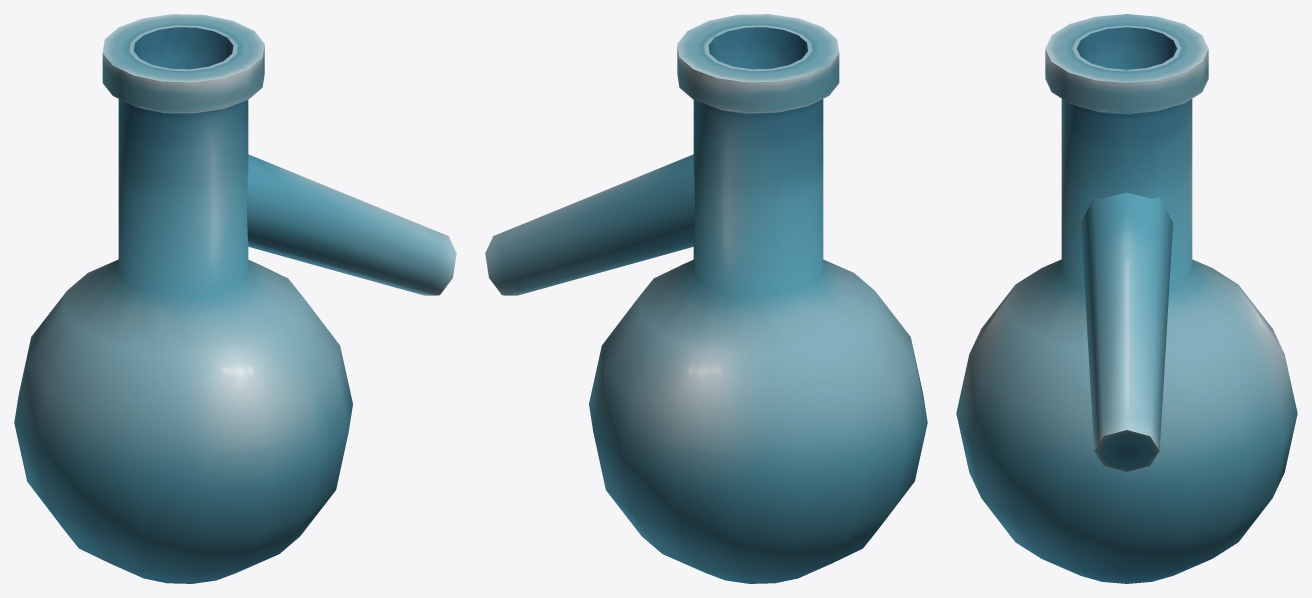
Rendered from Flask_2.FBX.
3 views of the same model, side by side, from view 1: azimuth 30°, elevation 25°; view 2: azimuth 150°, elevation 25°; view 3: azimuth 270°, elevation 25° (orthographic).
Parts seen in each view (by area): view 1: Flask_2; view 2: Flask_2; view 3: Flask_2.
Part boxes in pixels (x1,y1,x2,y2): Flask_2: (14, 14, 456, 583); Flask_2: (485, 14, 927, 583); Flask_2: (956, 14, 1297, 583).
Bounding box in the file's own units: 350 × 422 × 251.
